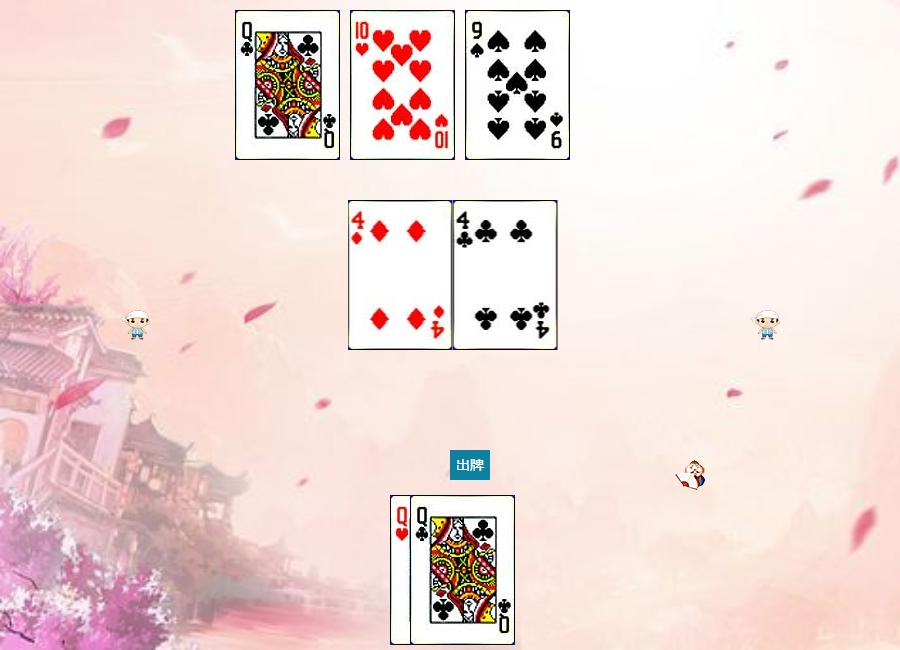10~3: (350, 10, 455, 160)
12~2: (235, 10, 340, 160), (410, 495, 515, 645)
12~3: (390, 495, 495, 645)
4~1: (348, 200, 453, 350)
4~2: (453, 200, 558, 350)
9~4: (465, 10, 570, 160)
